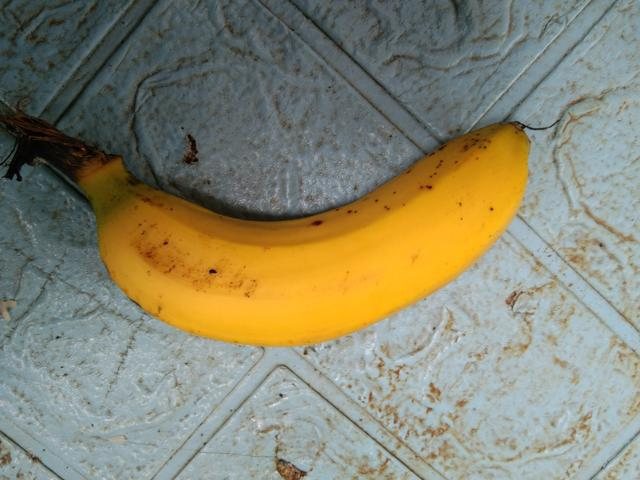freshripe: (84, 103, 542, 353)
